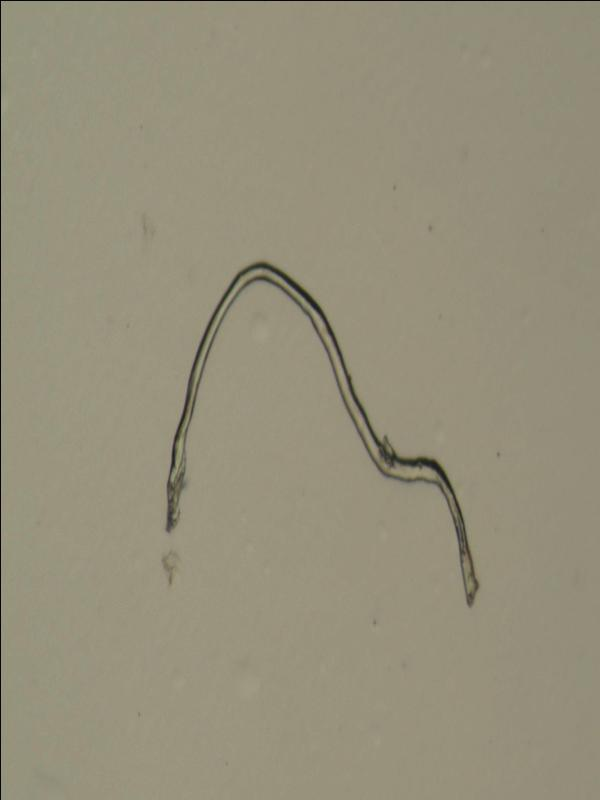microplastic: (163, 258, 479, 609)
